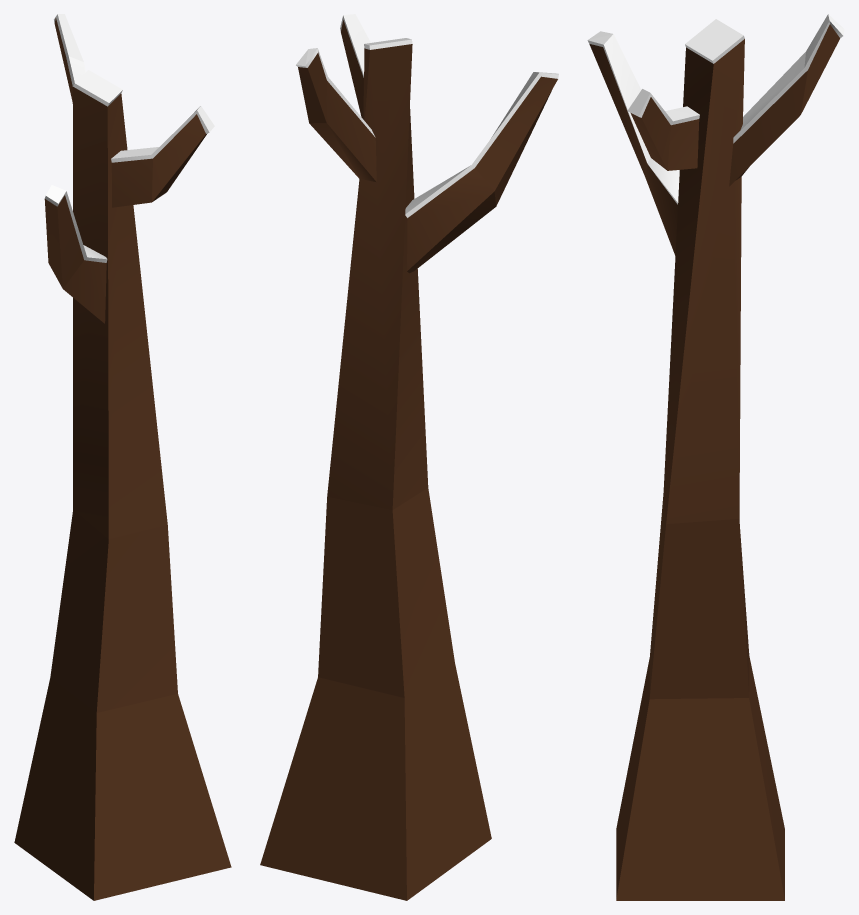
The model's file is Snow_Tree.fbx.
3 views of the same model, side by side, from view 1: azimuth 30°, elevation 25°; view 2: azimuth 150°, elevation 25°; view 3: azimuth 270°, elevation 25° (orthographic). The views are drawn at different scales.
Visible parts, largest first — view 1: Box022; view 2: Box022; view 3: Box022.
Boxes of the visible parts, <box> form: Box022: <box>14,14,231,900</box>; Box022: <box>260,14,558,900</box>; Box022: <box>587,14,844,900</box>.
Bounding box in the file's own units: 52.99 × 209 × 57.41.
